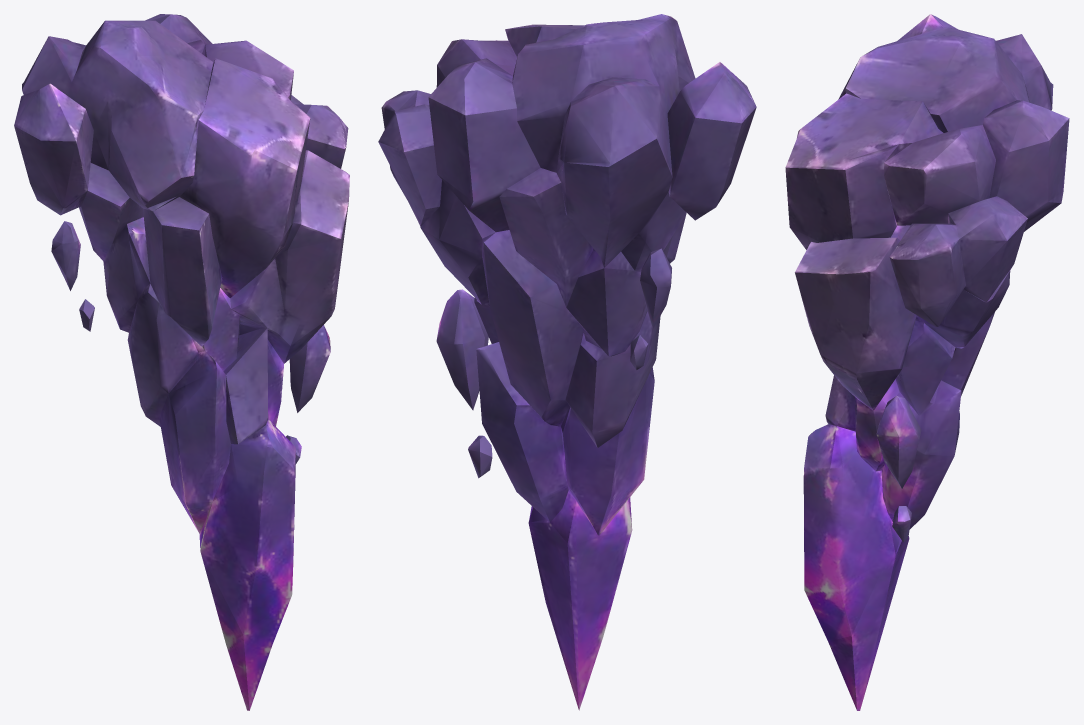
File: void_spike.glb
The picture shows the model from 3 angles, left to right: view 1: azimuth 30°, elevation 25°; view 2: azimuth 150°, elevation 25°; view 3: azimuth 270°, elevation 25°; orthographic projection. The views are drawn at different scales.
Visible parts, largest first — view 1: body; view 2: body; view 3: body.
Boxes of the visible parts, box(x1,y1,x2,y2) form: body: box(14, 14, 349, 710); body: box(378, 14, 756, 710); body: box(785, 14, 1069, 710).
Bounding box in the file's own units: 1.26 × 2.49 × 1.
Materials: 1 (1 with a texture image).
